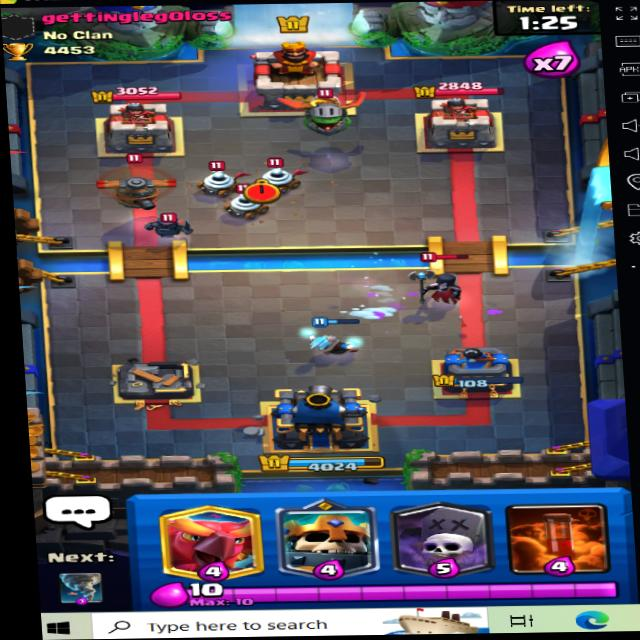flying-machine: (95, 150, 179, 212)
inferno-dragon: (289, 82, 351, 135)
mini-pekka: (142, 206, 198, 240)
night-witch: (419, 252, 469, 306)
zappie: (218, 186, 274, 221), (253, 156, 306, 190), (195, 160, 244, 191)
